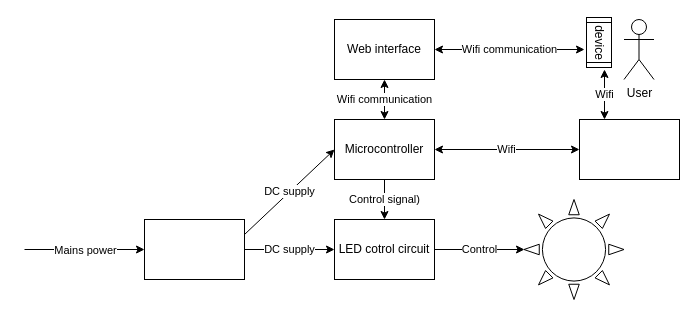
Some shapes in this 697 by 317 pixel diagram are drawn without their labels. The centre of each missing label's shape, as x and y in pixels:
"Home network router" goes at point 629,149.
"LED Matrix" goes at point 573,249.
"Power converter" goes at point 194,249.
